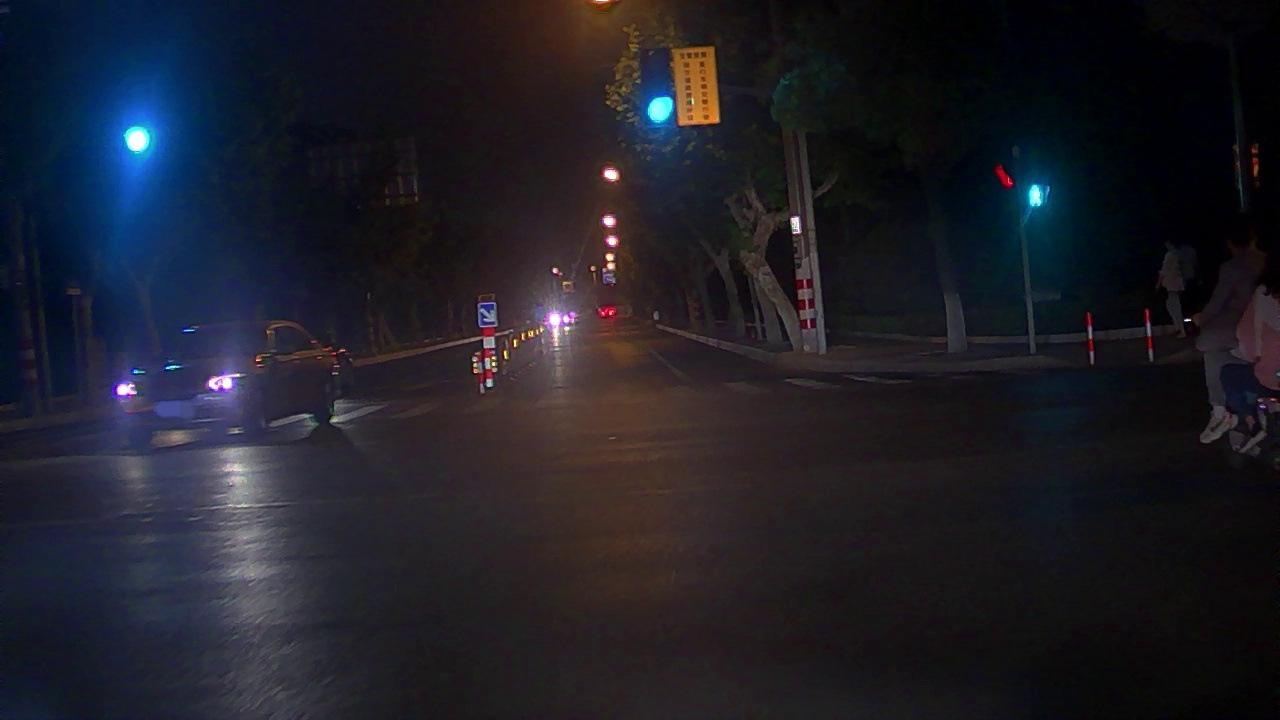traffic_light: (642, 52, 675, 131), (118, 116, 160, 161)
